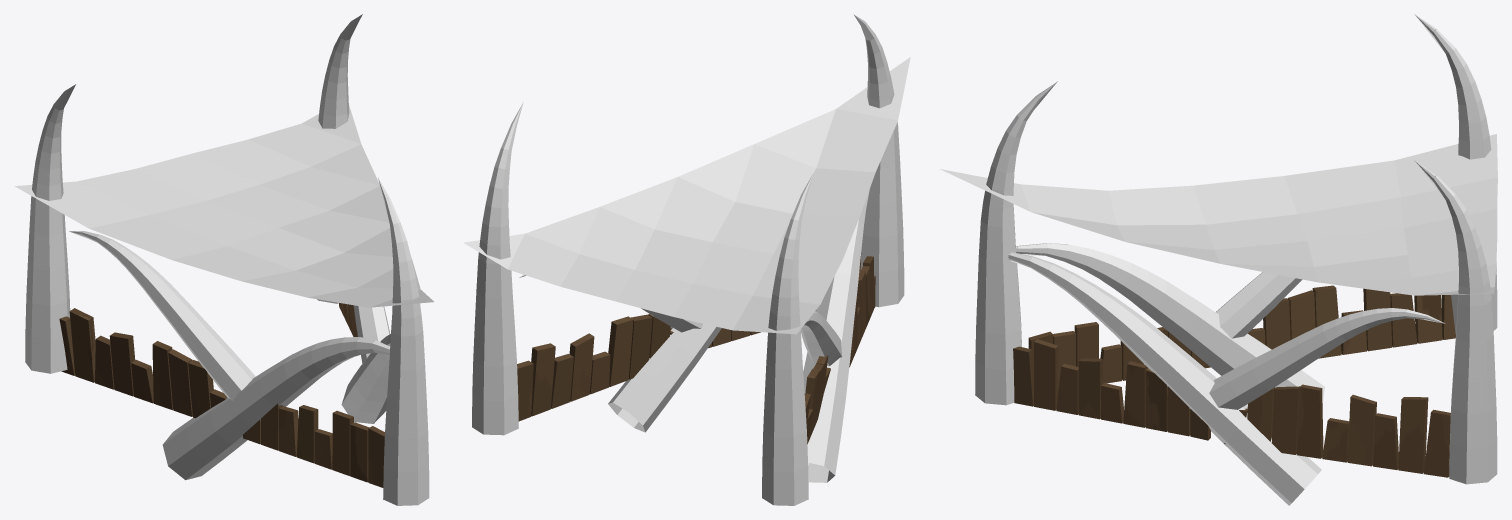
The model's file is GoblinsHouse.fbx.
3 renders of one model, left to right at view 1: azimuth 30°, elevation 25°; view 2: azimuth 150°, elevation 25°; view 3: azimuth 270°, elevation 25°, orthographic. The views are drawn at different scales.
Parts seen in each view (by area): view 1: Plane, Cylinder, Cylinder.007, Cylinder.005, Cube.010, Cube.008, Cylinder.006, Cylinder.009, Cylinder.004, Cylinder.008; view 2: Plane, Cylinder.005, Cylinder.004, Cube.009, Cylinder, Cylinder.007, Cylinder.009, Cube.008, Cylinder.006, Cube.010, Cylinder.008; view 3: Plane, Cube.009, Cylinder.009, Cylinder.004, Cylinder, Cube.007, Cylinder.007, Cube.010, Cylinder.008, Cylinder.005, Cube.008, Cylinder.006.
Part boxes in pixels (<box>): Plane: <box>14,105,433,307</box>; Cylinder: <box>378,177,429,505</box>; Cylinder.007: <box>162,337,390,480</box>; Cylinder.005: <box>25,84,75,373</box>; Cube.010: <box>59,308,226,418</box>; Cube.008: <box>243,403,384,487</box>; Cylinder.006: <box>69,231,255,400</box>; Cylinder.009: <box>341,334,390,423</box>; Cylinder.004: <box>317,14,362,303</box>; Cylinder.008: <box>353,305,390,366</box>; Plane: <box>463,57,910,334</box>; Cylinder.005: <box>762,173,813,505</box>; Cylinder.004: <box>472,102,523,435</box>; Cube.009: <box>517,314,673,421</box>; Cylinder: <box>853,14,904,307</box>; Cylinder.007: <box>803,189,869,482</box>; Cylinder.009: <box>608,324,721,432</box>; Cube.008: <box>849,256,875,367</box>; Cylinder.006: <box>801,311,842,366</box>; Cube.010: <box>804,355,830,444</box>; Cylinder.008: <box>519,274,702,332</box>; Plane: <box>940,134,1497,295</box>; Cube.009: <box>1224,384,1450,477</box>; Cylinder.009: <box>1008,252,1321,505</box>; Cylinder.004: <box>1414,160,1497,484</box>; Cylinder: <box>975,81,1057,405</box>; Cube.007: <box>1013,339,1210,440</box>; Cylinder.007: <box>1016,243,1324,402</box>; Cube.010: <box>1248,285,1455,358</box>; Cylinder.008: <box>1209,308,1445,409</box>; Cylinder.005: <box>1414,14,1497,334</box>; Cube.008: <box>1028,322,1210,390</box>; Cylinder.006: <box>1216,272,1302,338</box>.
Size of the model in its own units: 288 by 304 by 403.
